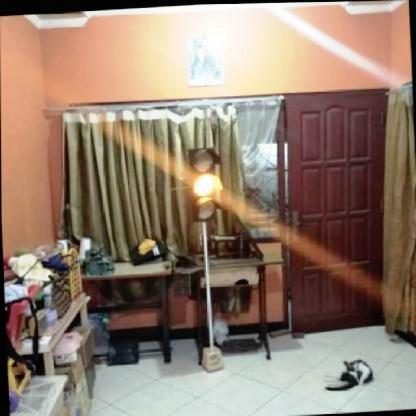Traffic Light -Yellow-: (188, 146, 223, 222)
